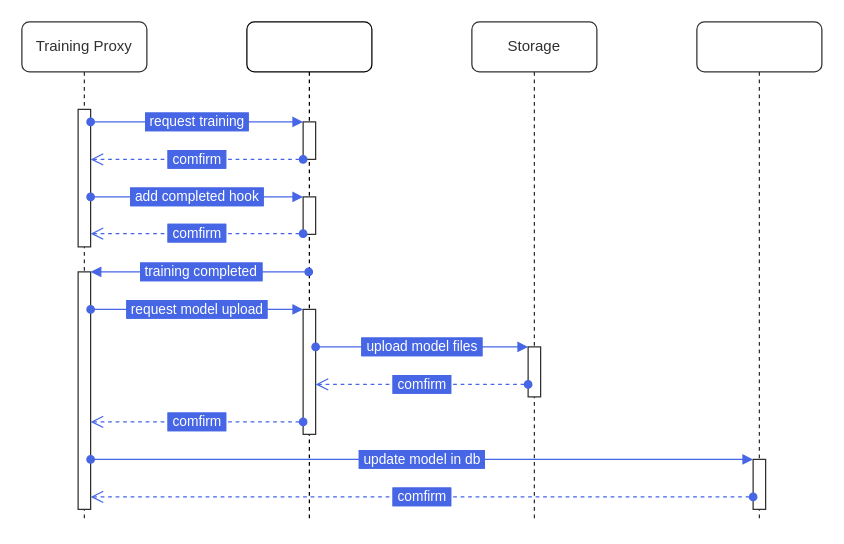
The diagram is 844 pixels wide and 544 high, and some of its shapes have lost their labels. Each missing label, with the box of its shape:
Database: (696, 21, 822, 522)
Training Server: (246, 21, 372, 522)
